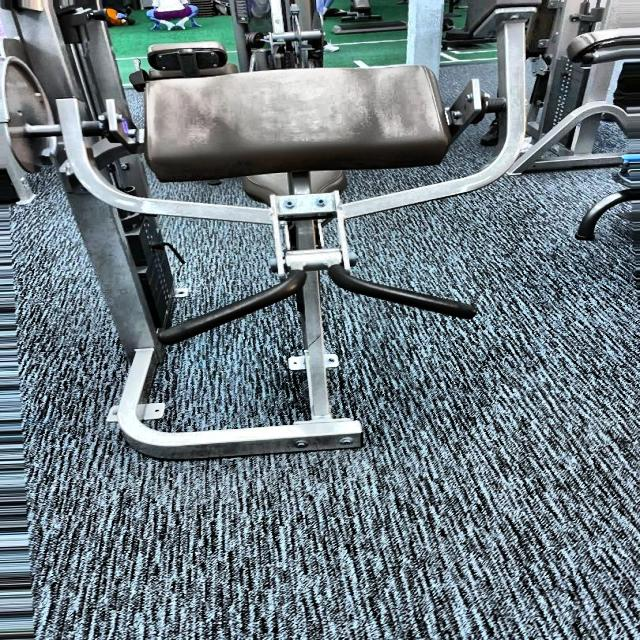bicep_curl_machine: (47, 40, 545, 482)
